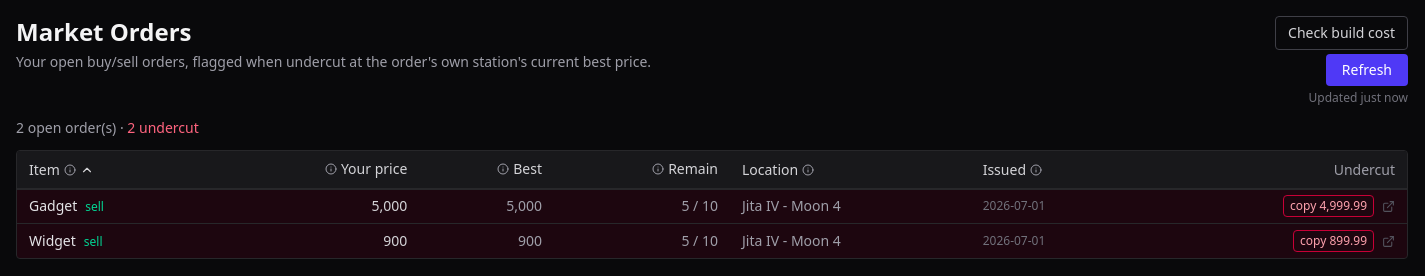
Test: OrdersPage build-cost check › flags sell orders whose undercut price falls below build cost
Expected: the text "Widget" is shown, top-left (29, 231), bottom-right (76, 250)
Expected: the text "below build cost" is not shown
Click the button "Check build cost" at (1342, 33), box top-left (1275, 16), bottom-right (1408, 50)
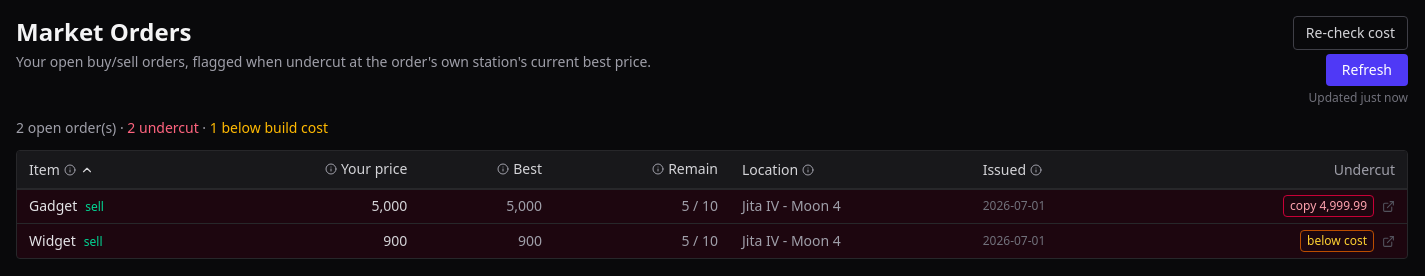
Now the text "1 below build cost" is shown, box top-left (210, 118), bottom-right (328, 137)
Now the text "below cost" is shown, box top-left (1300, 230), bottom-right (1374, 252)
